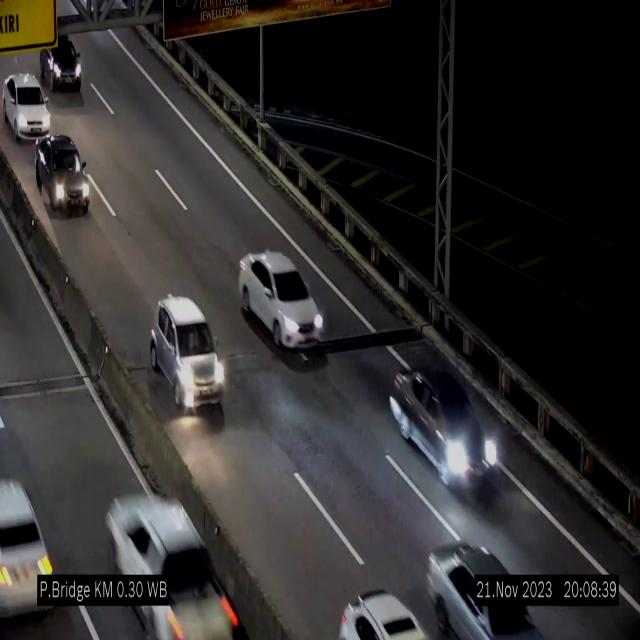Car: (106, 480, 244, 640), (384, 359, 498, 495), (422, 525, 546, 640), (0, 459, 63, 621), (150, 296, 226, 412), (239, 251, 325, 351), (37, 130, 95, 226), (332, 585, 432, 640), (4, 74, 50, 141), (40, 27, 84, 95)
